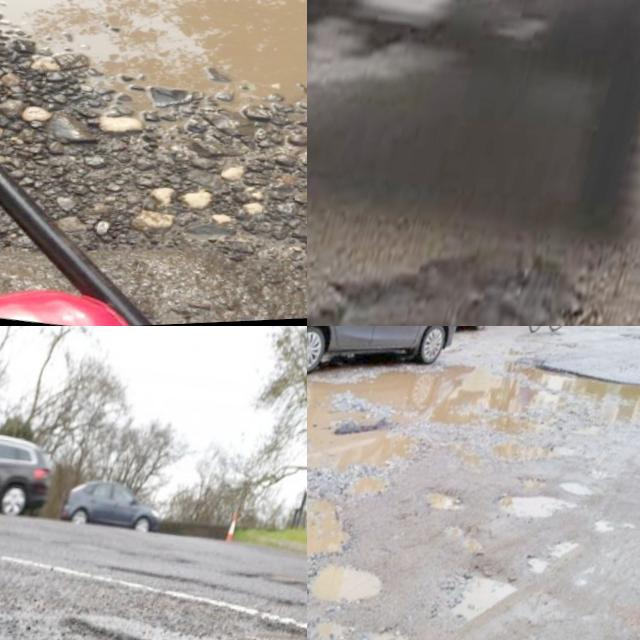Potholes: (307, 348, 626, 563), (0, 0, 307, 195), (307, 193, 598, 326), (307, 400, 440, 638), (440, 192, 640, 326), (484, 331, 640, 488), (13, 577, 289, 640), (428, 545, 550, 640), (307, 329, 364, 507), (413, 467, 497, 559)
